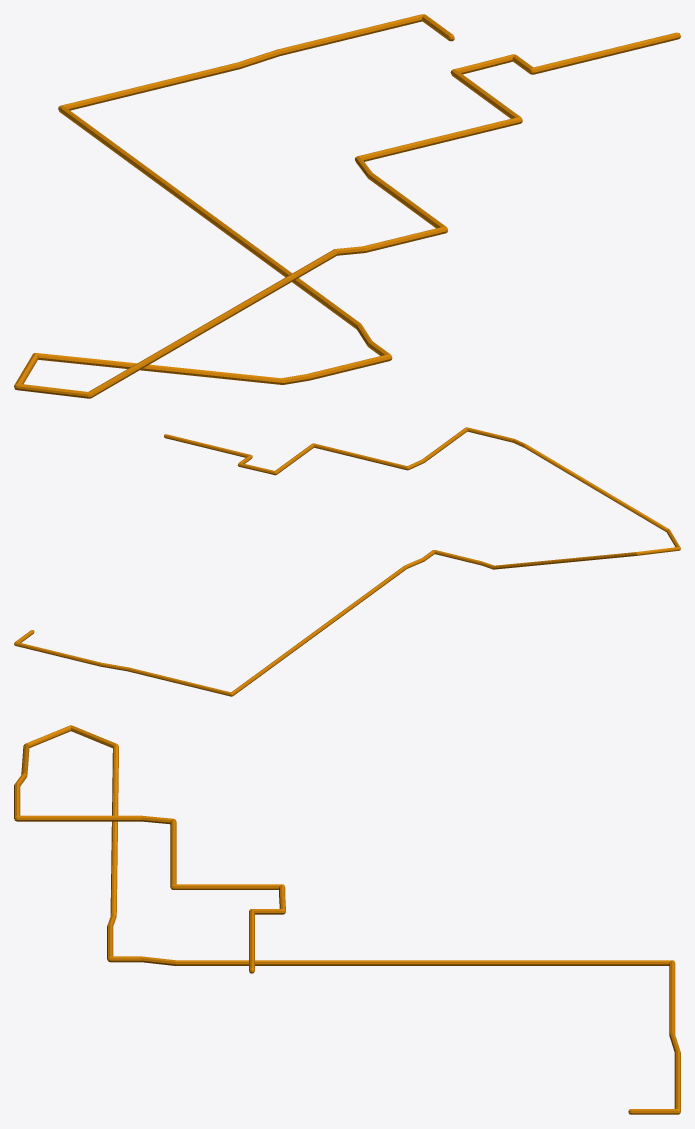
3 views of the same model, one above another, from view 1: azimuth 30°, elevation 25°; view 2: azimuth 150°, elevation 25°; view 3: azimuth 270°, elevation 25° (orthographic). The views are drawn at different scales.
Bounding box in the file's own units: 2409 × 520 × 2149.
